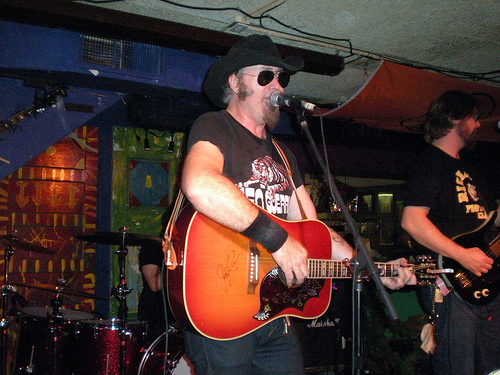guitar: (167, 193, 440, 343)
